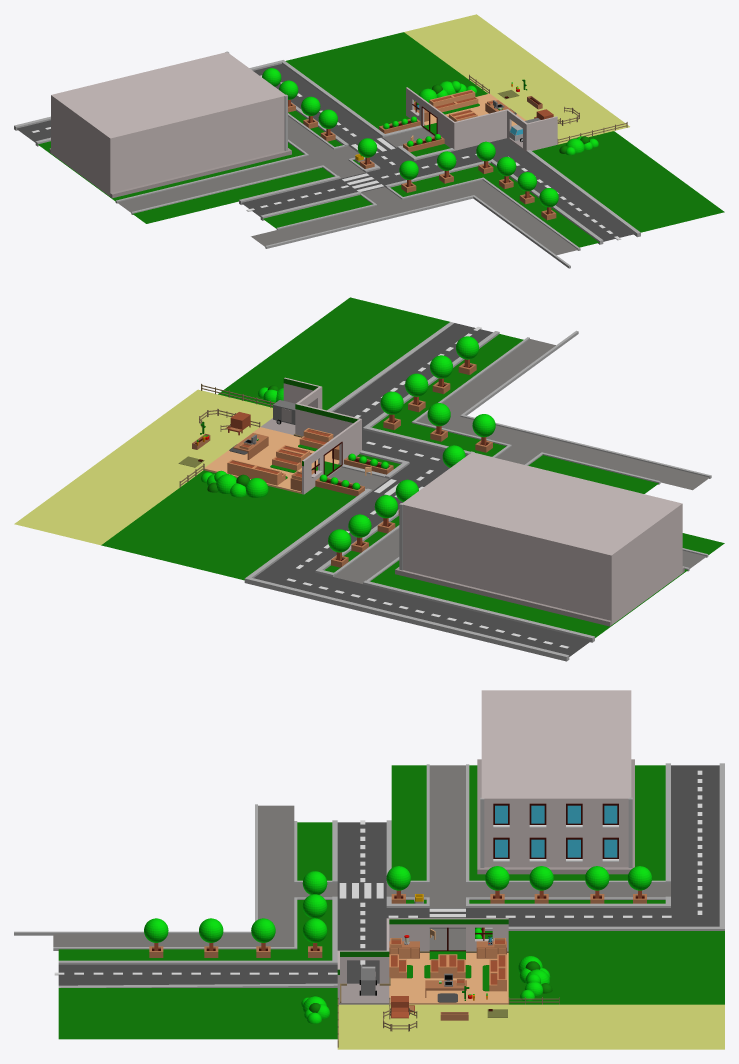
Rendered from Farm.fbx.
3 views of the same model, one above another, from view 1: azimuth 30°, elevation 25°; view 2: azimuth 150°, elevation 25°; view 3: azimuth 270°, elevation 25° (orthographic). The views are drawn at different scales.
Visible parts, largest first — view 1: Cube.078, Plane.019, Plane.013, Plane, Plane.011, Cube.019, Plane.016, Plane.003, Plane.010, Plane.002, Plane.014, Plane.017 (+16 smaller); view 2: Cube.078, Plane.019, Plane.013, Plane.002, Plane.011, Plane, Plane.010, Plane.016, Plane.006, Cube.019, Plane.017, Plane.012 (+12 smaller); view 3: Cube.078, Plane.019, Plane.013, Plane, Plane.002, Plane.011, Plane.003, Plane.010, Plane.006, Plane.016, Plane.014, Plane.017 (+20 smaller).
Boxes of the visible parts, x1,y1,x2,y2 form: Cube.078: [51, 52, 286, 196]; Plane.019: [404, 14, 629, 144]; Plane.013: [532, 131, 724, 232]; Plane: [241, 138, 636, 241]; Plane.011: [320, 32, 487, 115]; Cube.019: [406, 87, 557, 151]; Plane.016: [251, 180, 496, 246]; Plane.003: [117, 146, 359, 212]; Plane.010: [285, 52, 409, 129]; Plane.002: [16, 64, 413, 168]; Plane.014: [133, 167, 334, 223]; Plane.017: [390, 163, 599, 247]; Cube.078: [401, 452, 682, 624]; Plane.019: [14, 389, 272, 545]; Plane.013: [218, 297, 449, 410]; Plane.002: [254, 464, 591, 656]; Plane.011: [101, 470, 303, 569]; Plane: [333, 323, 492, 472]; Plane.010: [201, 486, 356, 580]; Plane.016: [417, 414, 709, 490]; Plane.006: [370, 560, 687, 637]; Cube.019: [283, 377, 361, 494]; Plane.017: [372, 334, 523, 456]; Plane.012: [442, 339, 555, 416]; Cube.078: [481, 690, 631, 867]; Plane.019: [337, 1004, 724, 1049]; Plane.013: [58, 988, 337, 1039]; Plane: [58, 822, 386, 985]; Plane.002: [386, 765, 719, 928]; Plane.011: [508, 953, 724, 1004]; Plane.003: [429, 765, 465, 907]; Plane.010: [485, 931, 724, 953]; Plane.006: [469, 765, 665, 880]; Plane.016: [258, 805, 294, 946]; Plane.014: [391, 765, 426, 880]; Plane.017: [58, 900, 332, 960].
Size of the model in its own units: 6616 by 1002 by 6993.
